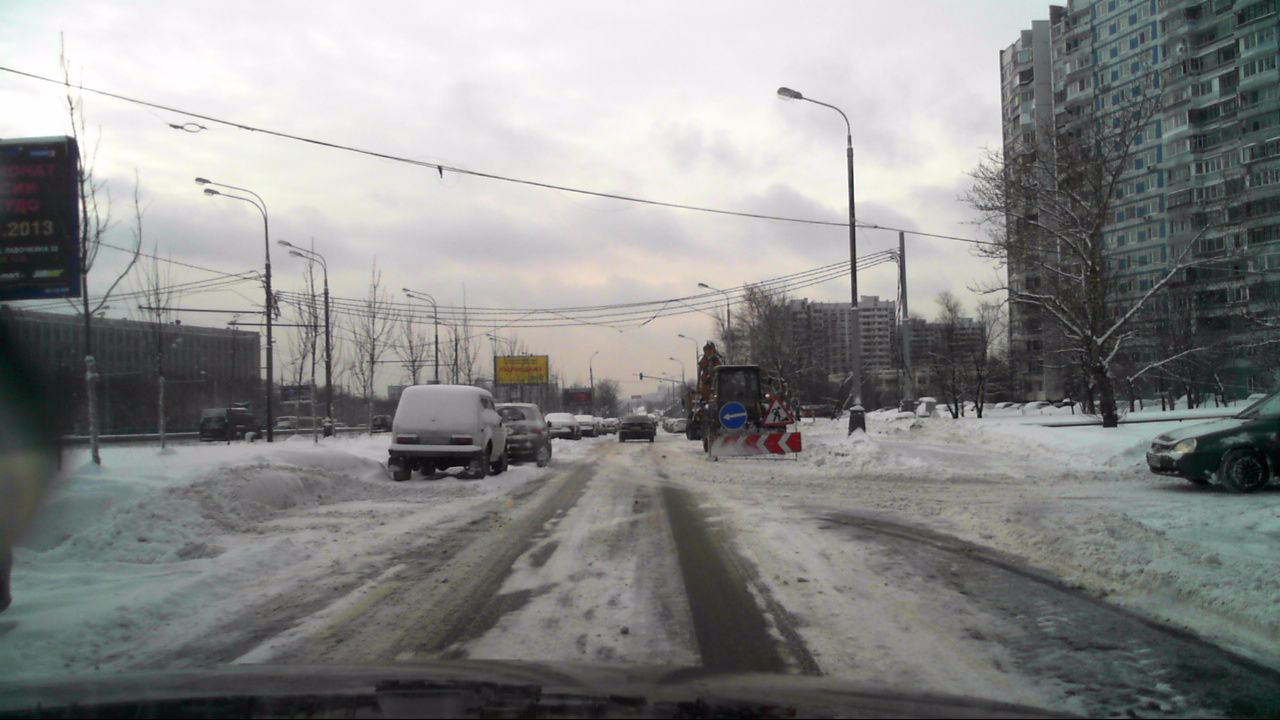Turn Left: (719, 401, 747, 430)
